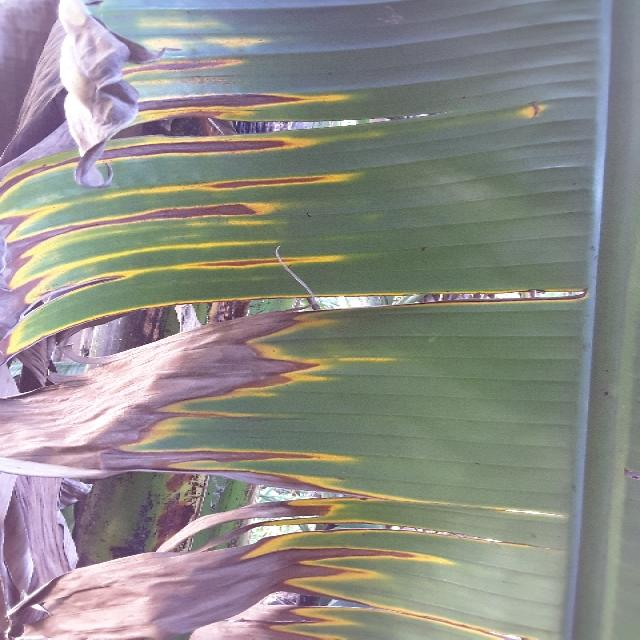Cordana: (0, 0, 607, 638)
